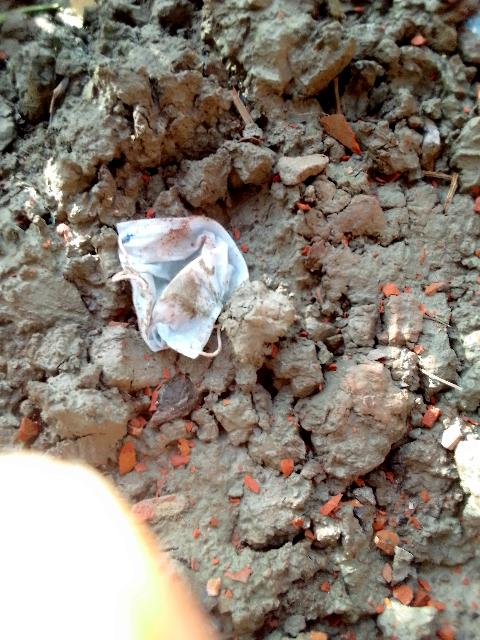mask: (118, 182, 250, 367)
